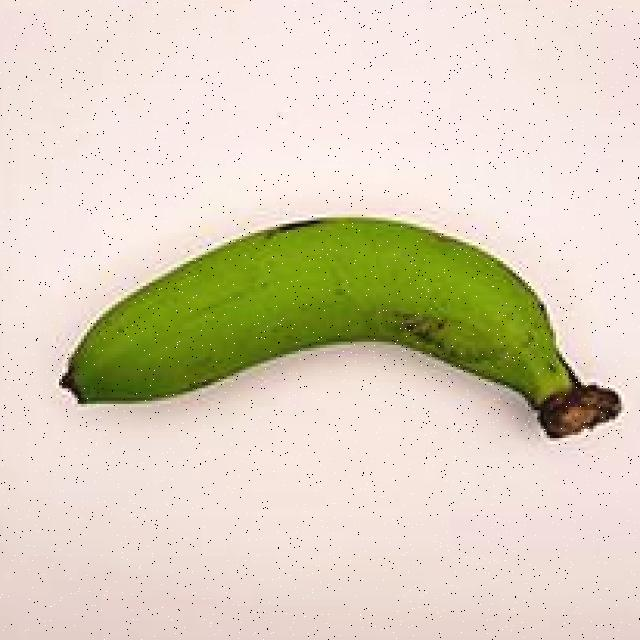Raw: (29, 184, 628, 463)
